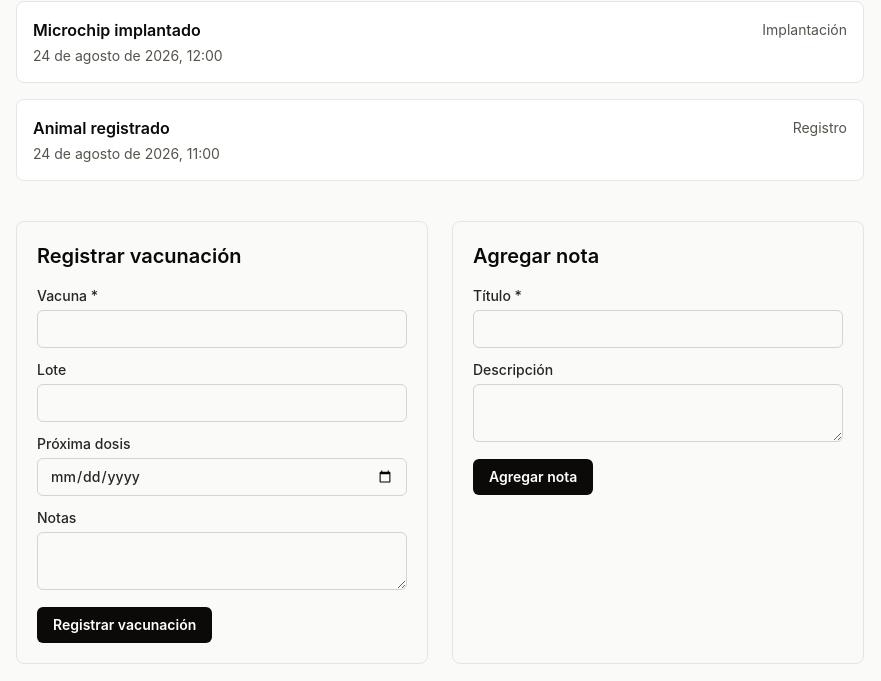
it: AnimalProfilePage › validates and creates a note with empty metadata through the data boundary
(page scrolled)
Click the button "Agregar nota". click: (533,477)
box: [473,459,593,495]
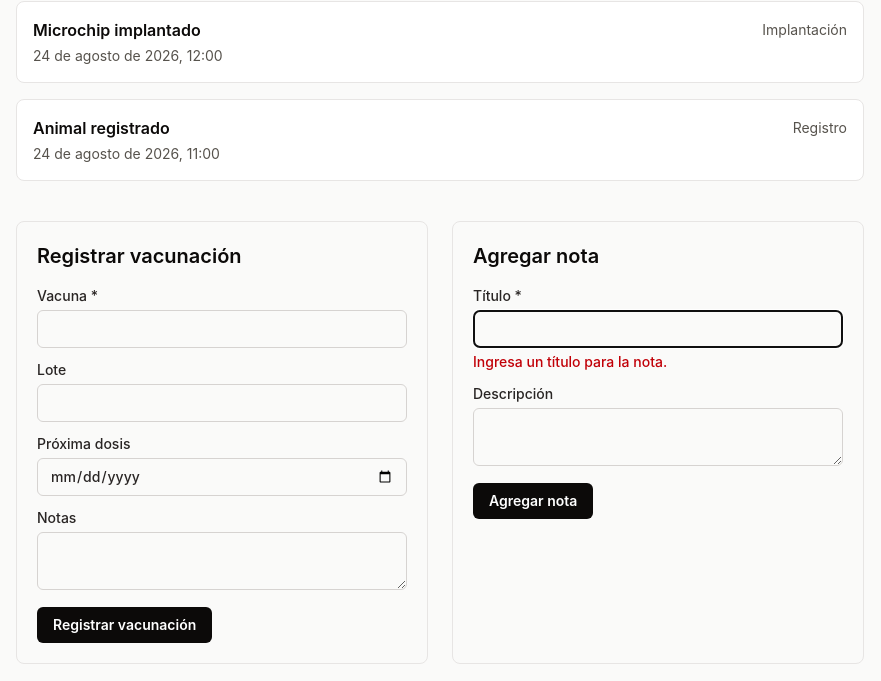
Expected: the text "Ingresa un título para la nota." is shown, [473,353,667,370]
Type "Control" into the field labelled "Título * Ingresa un título para la nota.". click: (658,329)
box: [473,310,843,348]
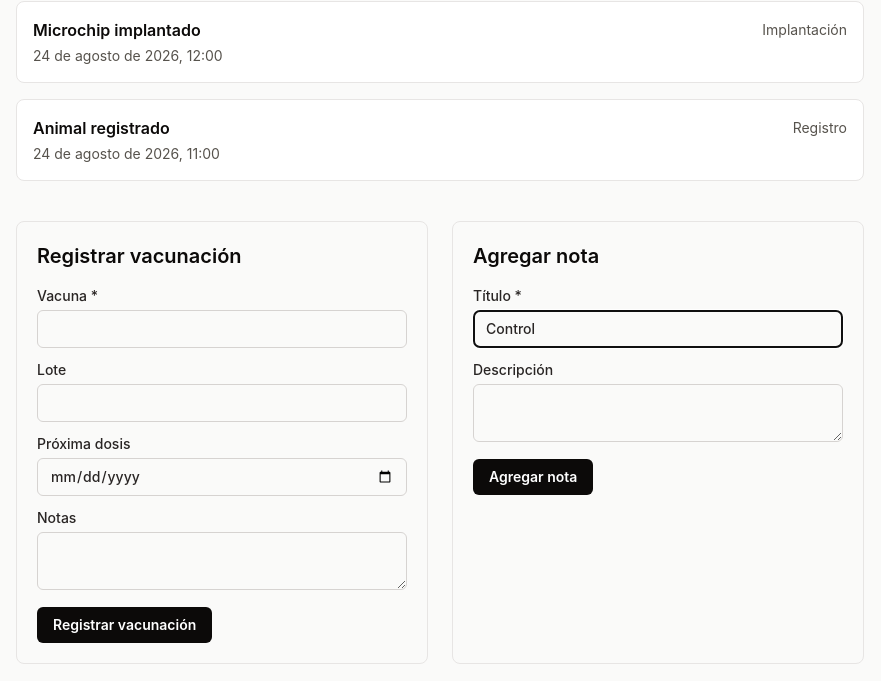
Type "Todo bien" into the text box labelled "Descripción". click: (658,413)
box: [473,384,843,442]
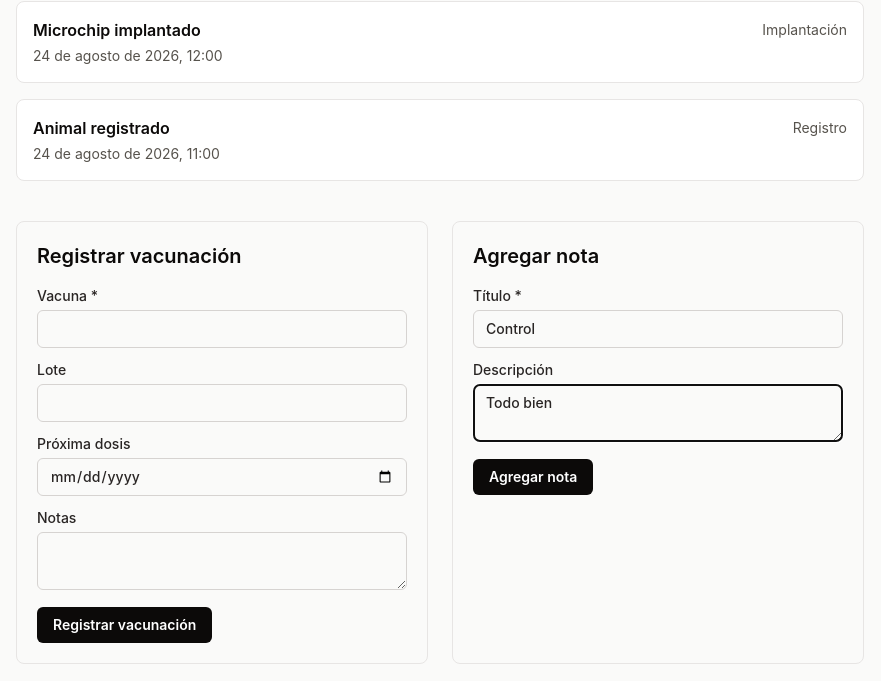
Click the button "Agregar nota". click: (533,477)
box: [473,459,593,495]
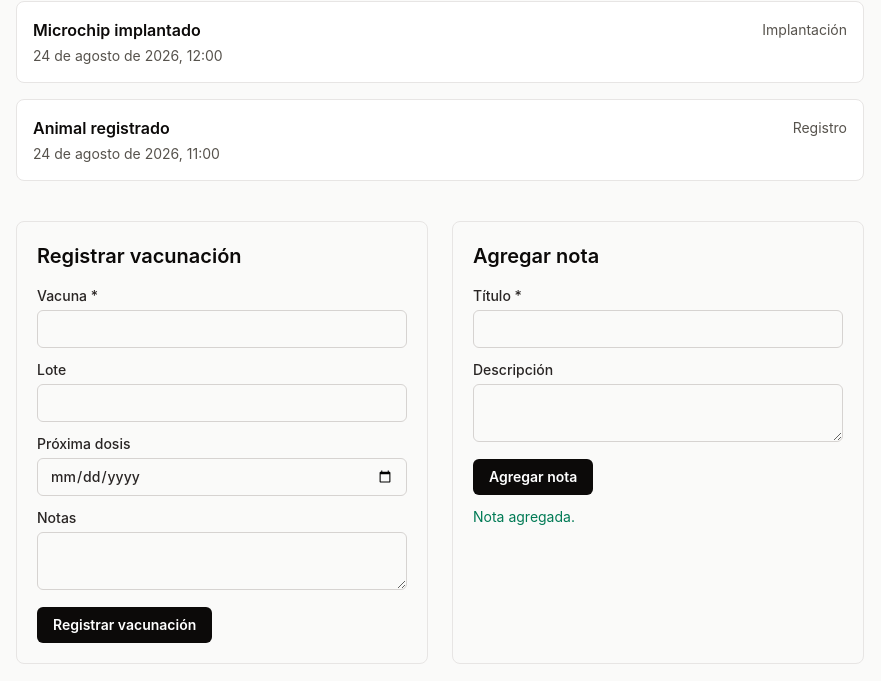
Expected: the text "Nota agregada." is shown, [473,508,575,525]
